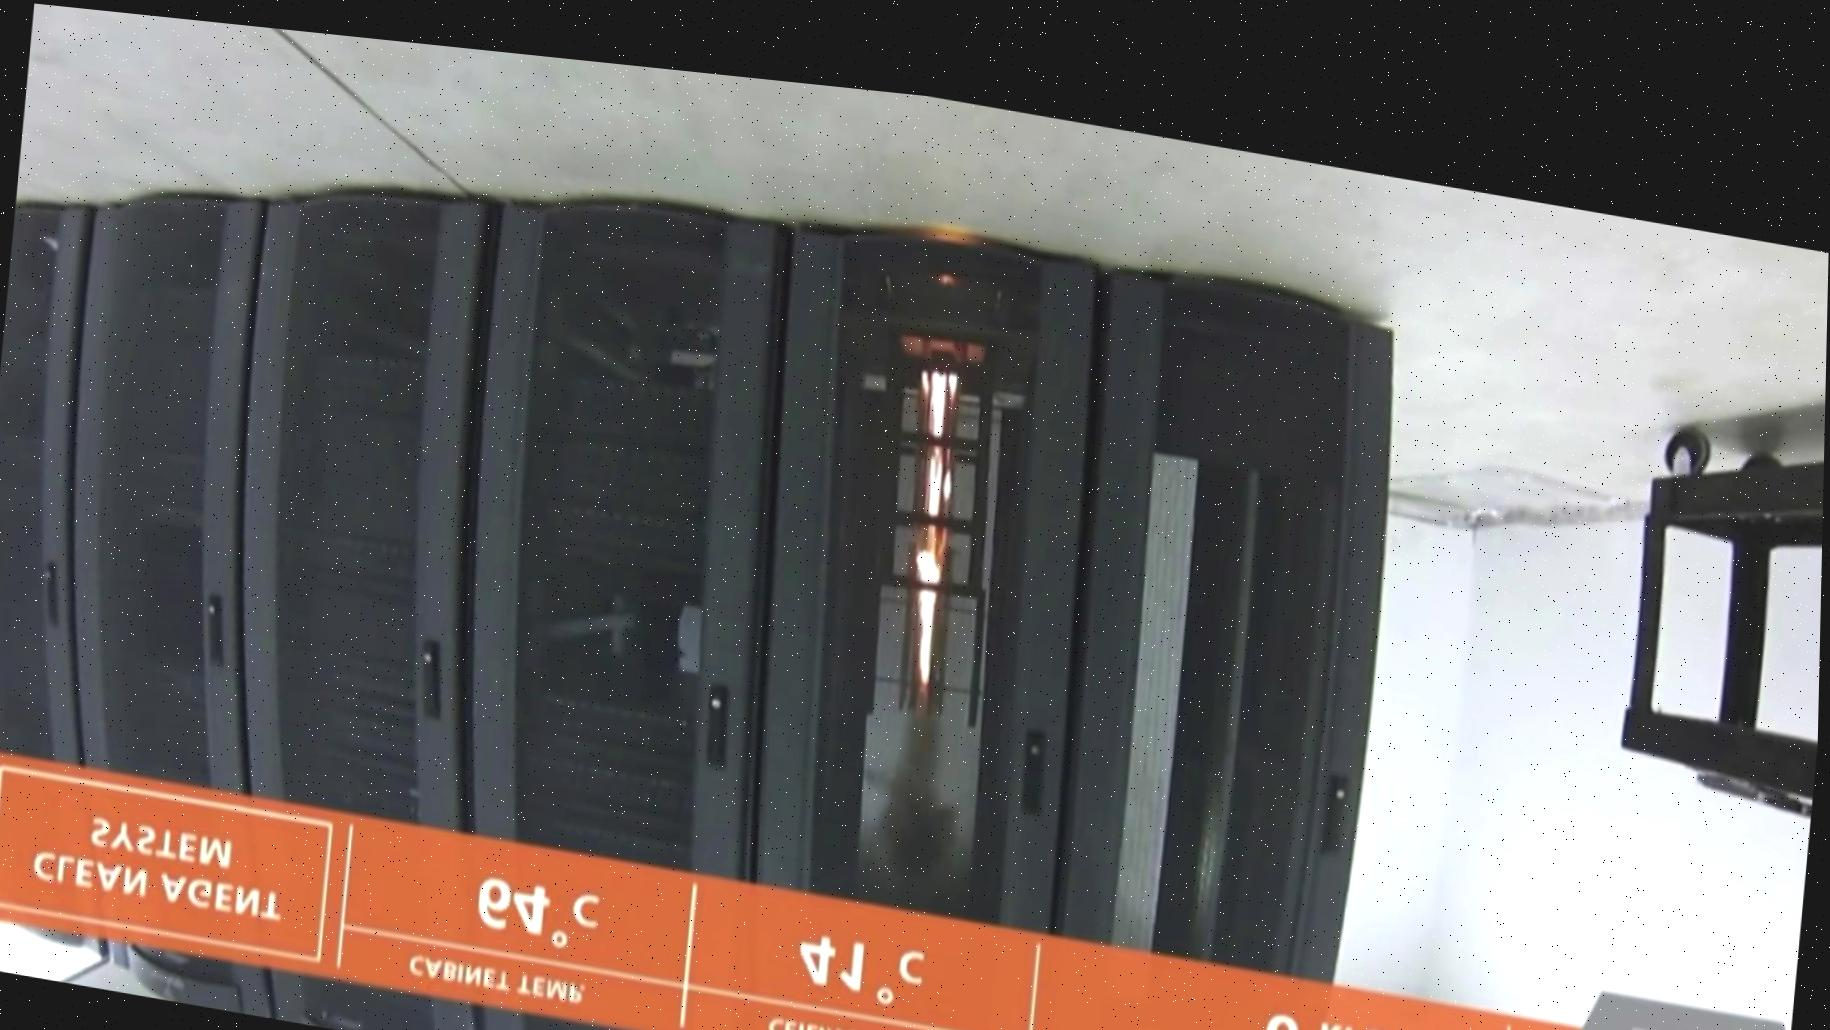fire: (826, 215, 1051, 877)
